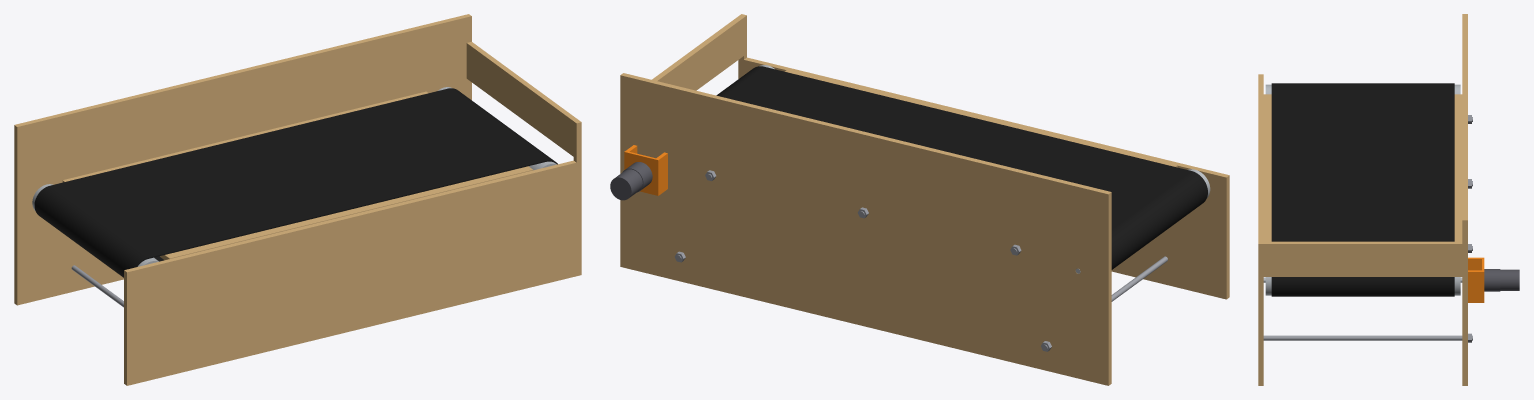
The model's file is conveyor.glb.
3 views of the same model, side by side, from view 1: azimuth 30°, elevation 25°; view 2: azimuth 150°, elevation 25°; view 3: azimuth 270°, elevation 25° (orthographic). The views are drawn at different scales.
Parts seen in each view (by area): view 1: side_plate_near, belt, side_plate_far, end_stop, belt_bed; view 2: side_plate_far, belt, side_plate_near, end_stop, belt_bed, motor_bracket, gear_motor, tie_rods; view 3: belt, end_stop, belt_bed, side_plate_far, side_plate_near, tie_rods, gear_motor, motor_bracket, roller_drive.
Part boxes in pixels (<box>): side_plate_near: <box>124,160,581,385</box>; belt: <box>34,88,557,277</box>; side_plate_far: <box>14,14,471,305</box>; end_stop: <box>466,41,581,162</box>; belt_bed: <box>62,91,532,259</box>; side_plate_far: <box>620,73,1111,385</box>; belt: <box>716,66,1207,269</box>; side_plate_near: <box>738,57,1229,299</box>; end_stop: <box>652,14,746,90</box>; belt_bed: <box>785,69,1177,167</box>; motor_bracket: <box>624,145,667,195</box>; gear_motor: <box>610,162,652,200</box>; tie_rods: <box>674,170,1167,351</box>; belt: <box>1271,83,1454,296</box>; end_stop: <box>1258,241,1462,280</box>; belt_bed: <box>1263,94,1462,241</box>; side_plate_far: <box>1462,14,1467,385</box>; side_plate_near: <box>1258,74,1263,385</box>; tie_rods: <box>1263,115,1472,342</box>; gear_motor: <box>1484,269,1519,291</box>; motor_bracket: <box>1468,257,1484,302</box>; roller_drive: <box>1263,277,1462,295</box>.
Size of the model in its own units: 0.8 by 0.3 by 0.429.
